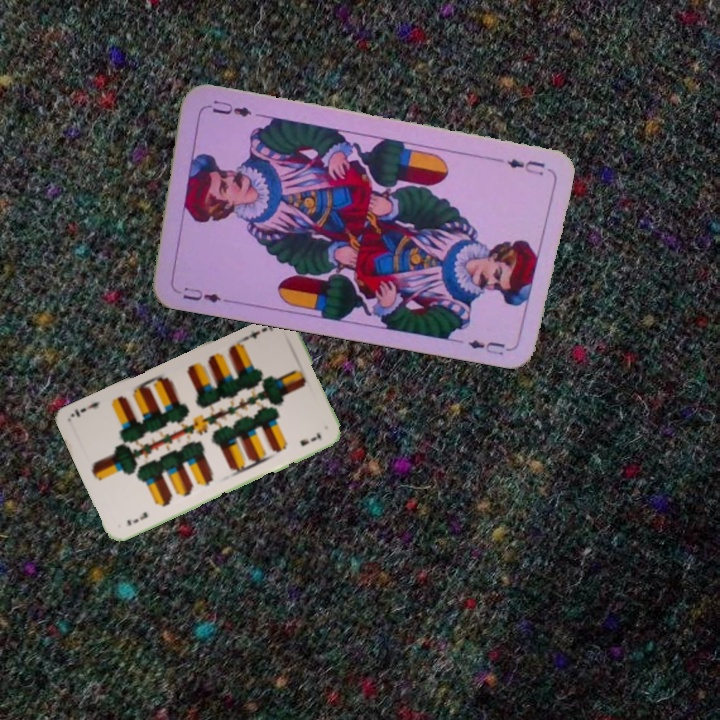E7: (240, 321, 276, 343), (123, 508, 151, 528)
EU: (178, 283, 231, 306), (503, 154, 547, 177)
